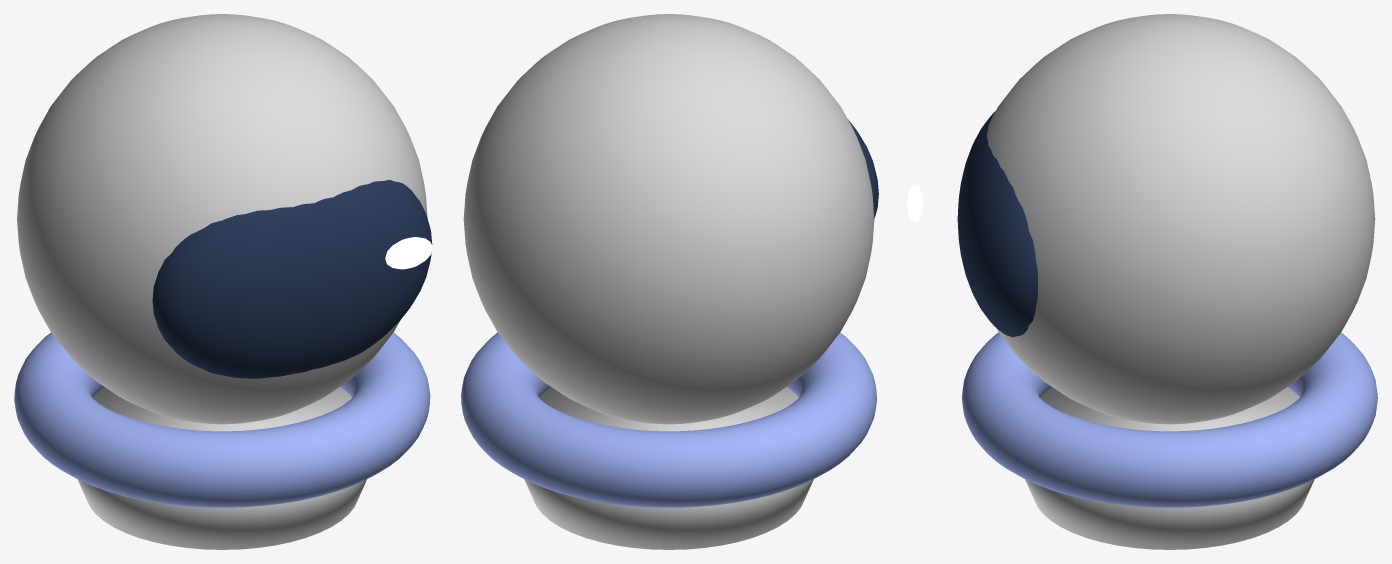
File: cat-avatar.glb
3 renders of one model, left to right at view 1: azimuth 30°, elevation 25°; view 2: azimuth 150°, elevation 25°; view 3: azimuth 270°, elevation 25°, orthographic.
Parts seen in each view (by area): view 1: Sphere, Sphere.001, Torus, Cone, Sphere.002; view 2: Sphere, Torus, Cone, Sphere.001; view 3: Sphere, Torus, Cone, Sphere.001.
Boxes of the visible parts, <box> form: Sphere: <box>17,14,427,424</box>; Sphere.001: <box>152,180,432,378</box>; Torus: <box>14,332,430,507</box>; Cone: <box>77,387,366,549</box>; Sphere.002: <box>385,237,432,269</box>; Sphere: <box>463,14,874,424</box>; Torus: <box>461,332,876,507</box>; Cone: <box>524,387,813,549</box>; Sphere.001: <box>848,119,878,218</box>; Sphere: <box>986,14,1375,424</box>; Torus: <box>961,332,1377,507</box>; Cone: <box>1025,387,1314,549</box>; Sphere.001: <box>957,111,1037,337</box>.
Bounding box in the file's own units: 1.08 × 1.32 × 1.23.
